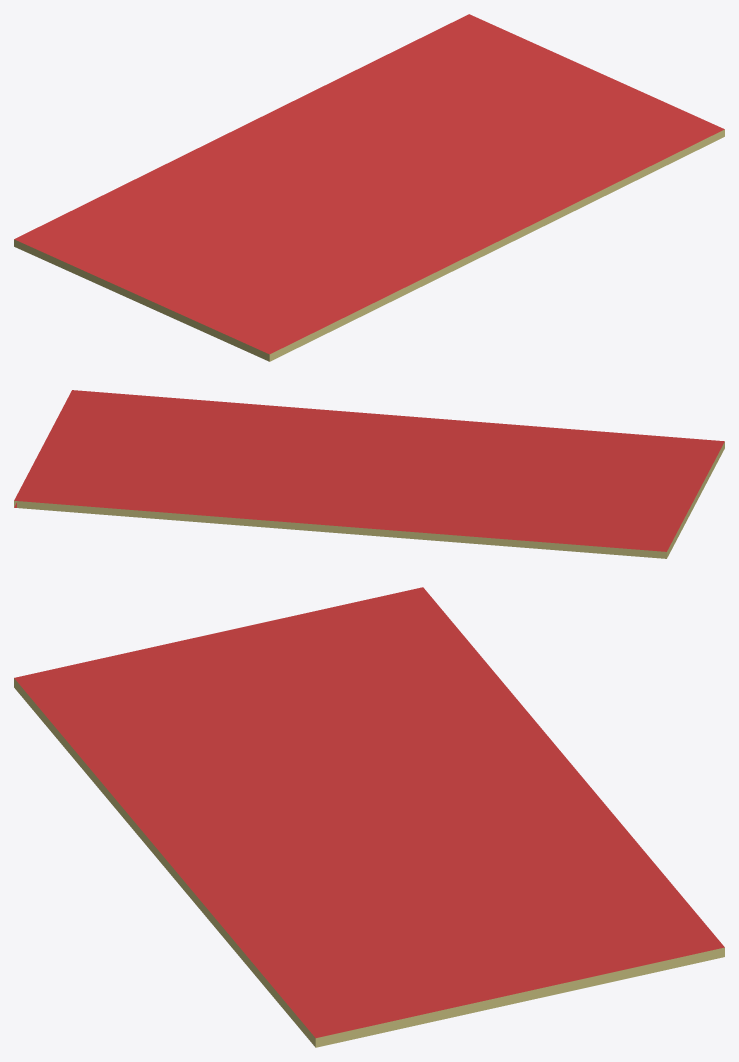
The picture shows the model from 3 angles, top to bottom: view 1: azimuth 30°, elevation 25°; view 2: azimuth 150°, elevation 25°; view 3: azimuth 270°, elevation 25°; orthographic projection. The views are drawn at different scales.
Size of the model in its own units: 9.45 by 6.74 by 0.409.
